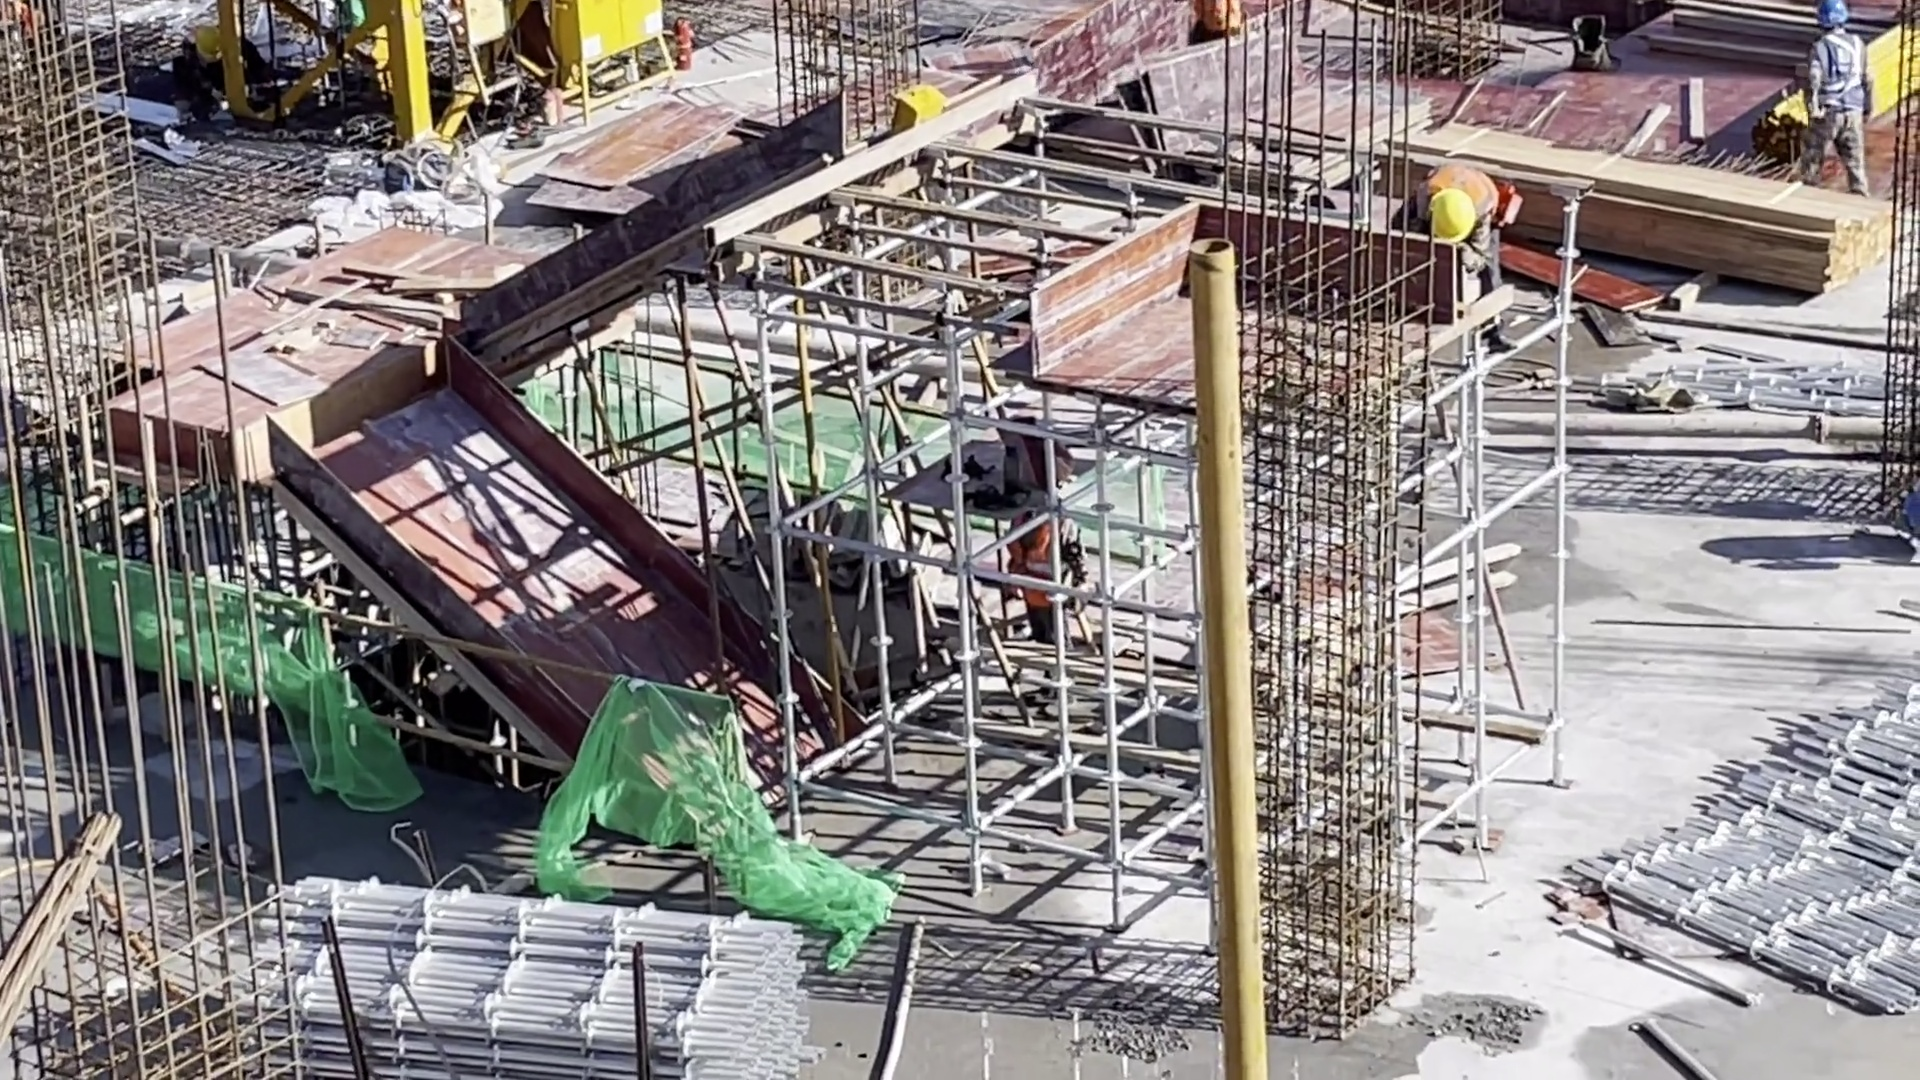helmet: (1424, 184, 1477, 245), (191, 25, 225, 62), (1815, 5, 1850, 27)
person: (1393, 153, 1523, 353), (1807, 4, 1880, 194), (1004, 515, 1099, 642), (177, 23, 269, 105)
vest: (1006, 523, 1077, 606), (1813, 32, 1865, 114), (1428, 158, 1495, 213)
